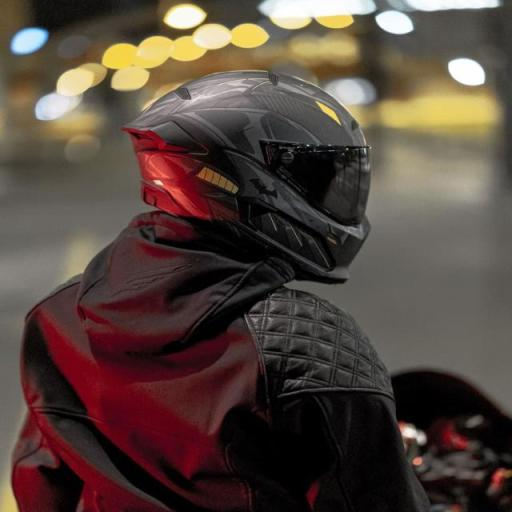Helmet: (124, 71, 370, 282)
Motor: (393, 372, 511, 511)
